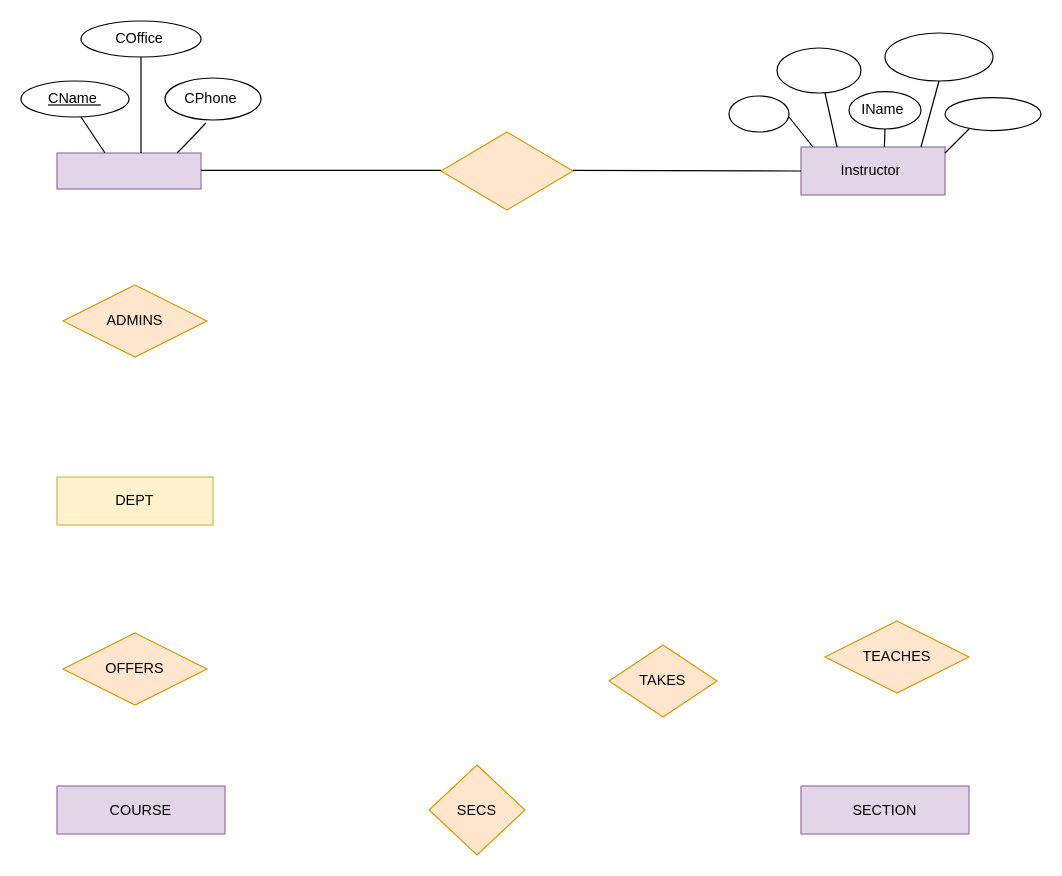
This 1062x876 diagram has some shape labels left out. The shapes that lost their labels are listed below. From the top down, each one's centre as x and y in pixels, then its label:
point (818, 70): Rank
point (938, 56): IOffice
point (758, 113): Id
point (992, 113): IPhone
point (128, 170): COLLEGE
point (506, 170): DEAN
